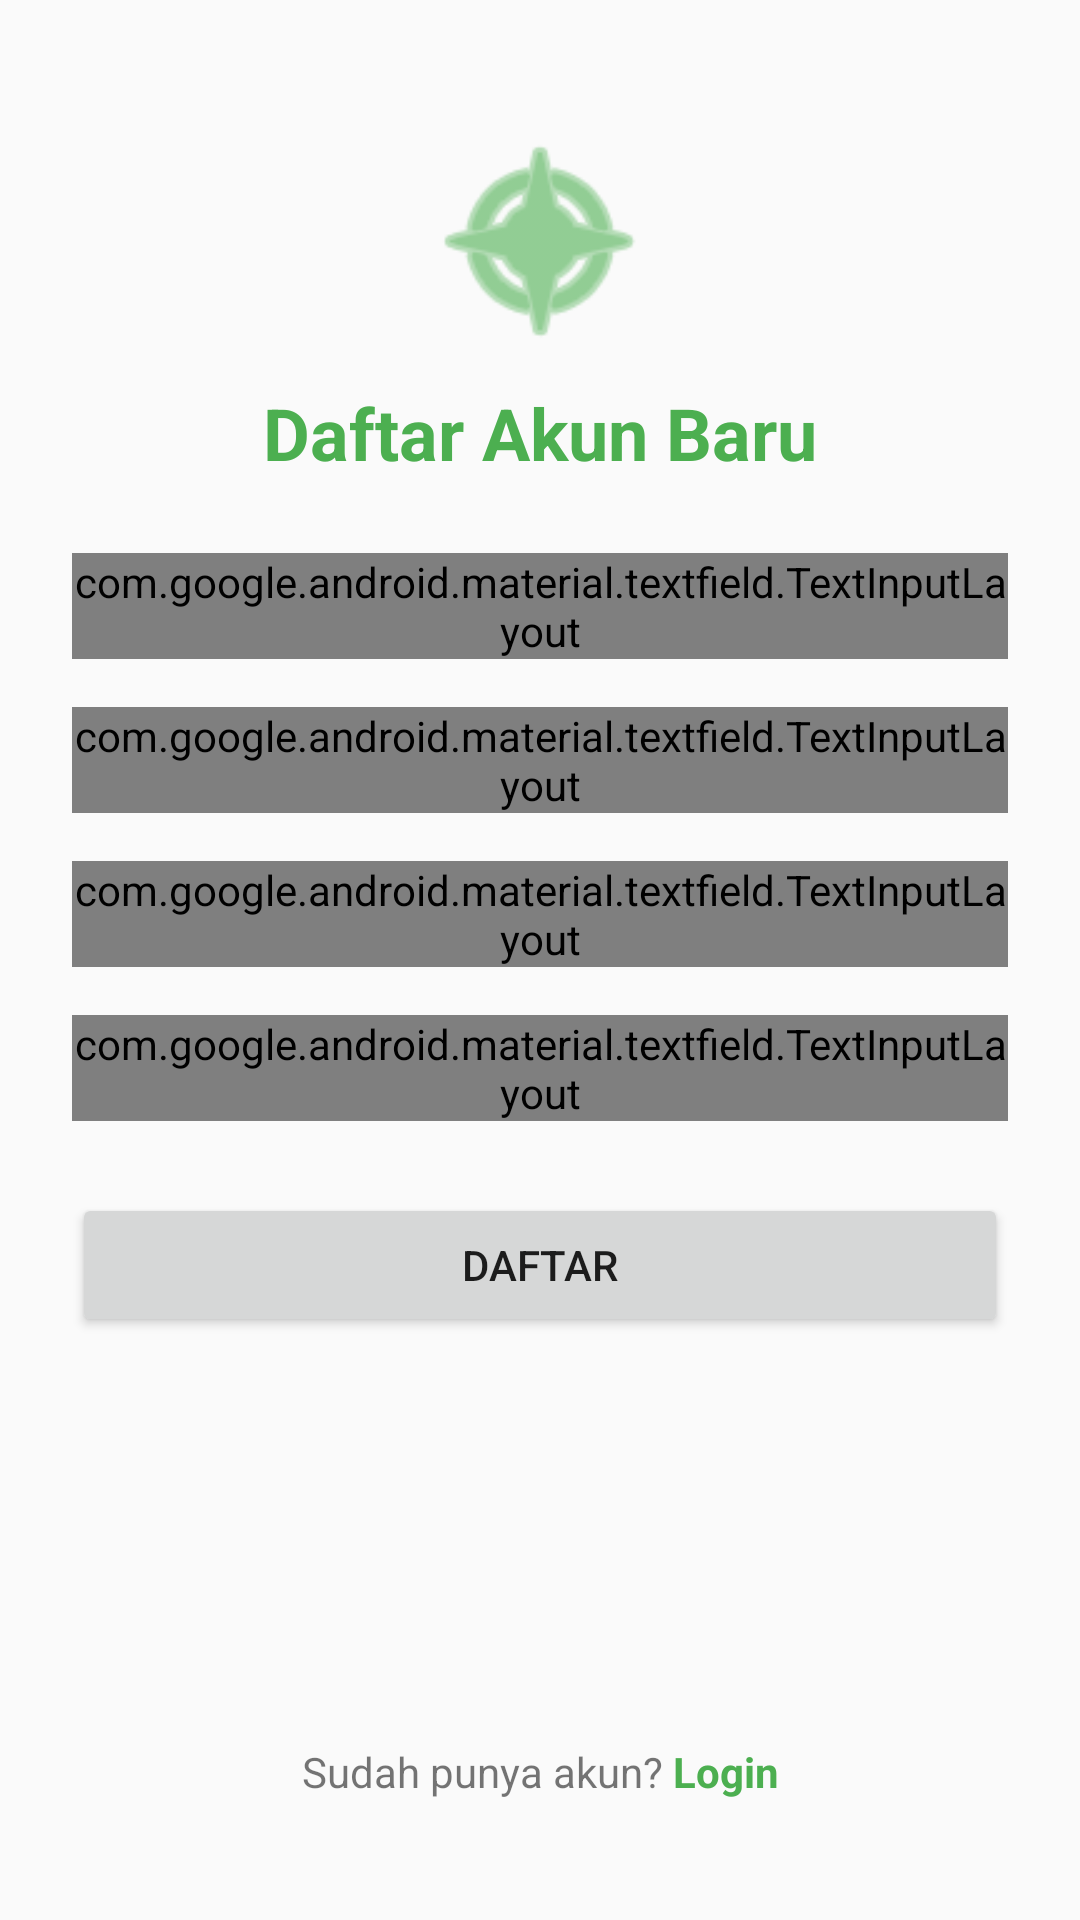

Icon click points for this 1080px×1920px phone screenshot, format point (x, y):
compass: point (539, 241)
